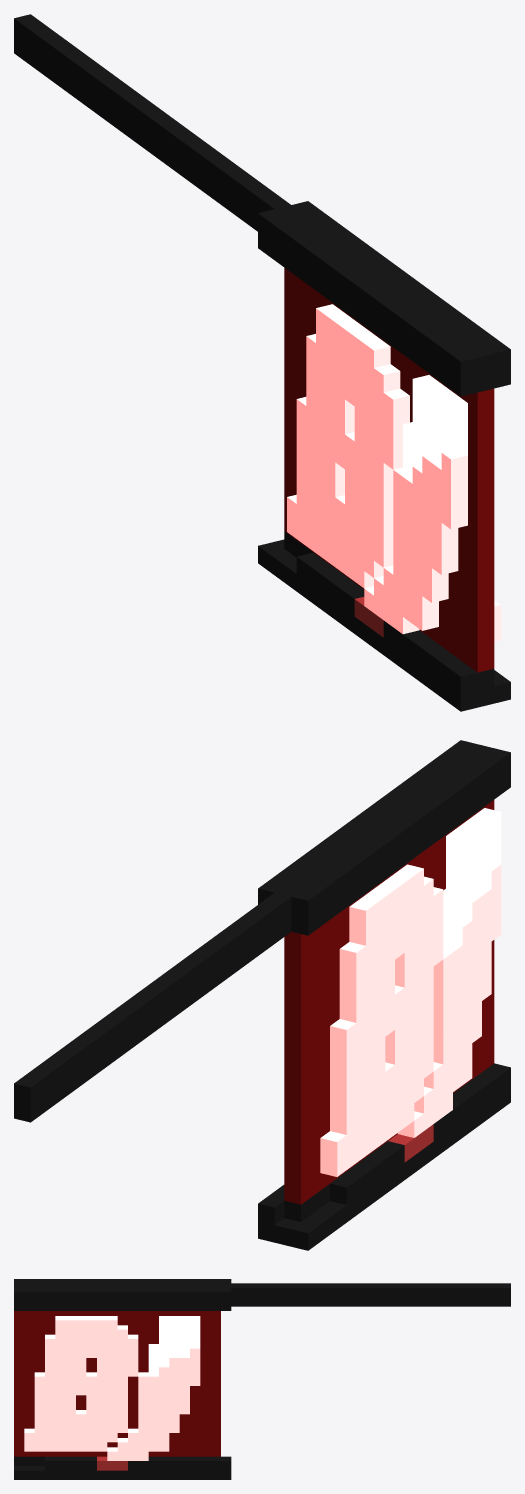
File: TravelAgency.glb
3 views of the same model, one above another, from view 1: azimuth 30°, elevation 25°; view 2: azimuth 150°, elevation 25°; view 3: azimuth 270°, elevation 25° (orthographic). The views are drawn at different scales.
Parts seen in each view (by area): view 1: ObjObject; view 2: ObjObject; view 3: ObjObject.
Boxes of the visible parts, x1=… form: ObjObject: x1=14, y1=14, x2=510, y2=711; ObjObject: x1=14, y1=740, x2=510, y2=1250; ObjObject: x1=14, y1=1279, x2=510, y2=1479.
Size of the model in its own units: 0.3 by 2 by 4.8.
Materials: 3 (1 with a texture image).
